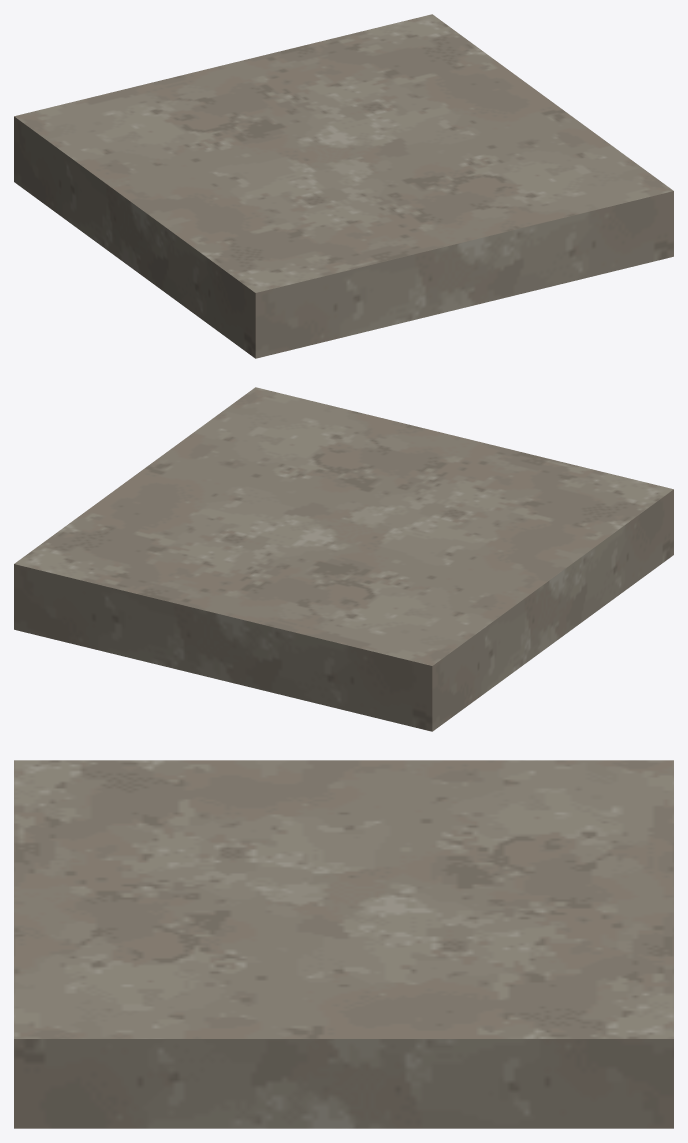
The model's file is SM_CEILING_01.fbx.
3 views of the same model, one above another, from view 1: azimuth 30°, elevation 25°; view 2: azimuth 150°, elevation 25°; view 3: azimuth 270°, elevation 25° (orthographic). The views are drawn at different scales.
Visible parts, largest first — view 1: SM_CEILING_01; view 2: SM_CEILING_01; view 3: SM_CEILING_01.
Part boxes in pixels (bbox=[...]): SM_CEILING_01: bbox=[14, 14, 673, 358]; SM_CEILING_01: bbox=[14, 387, 673, 731]; SM_CEILING_01: bbox=[14, 760, 673, 1128].
Bounding box in the file's own units: 2 × 0.3 × 2.
